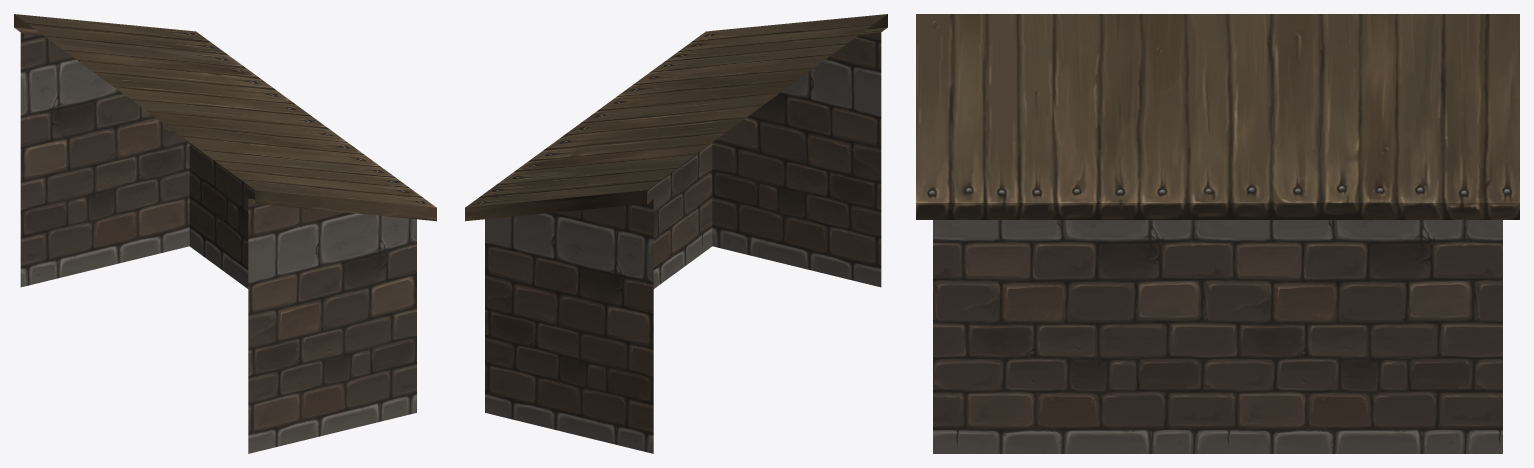
Rendered from M_ExtensionBrick.fbx.
The picture shows the model from 3 angles, left to right: view 1: azimuth 30°, elevation 25°; view 2: azimuth 150°, elevation 25°; view 3: azimuth 270°, elevation 25°; orthographic projection. The views are drawn at different scales.
Visible parts, largest first — view 1: M_ExtensionBrick; view 2: M_ExtensionBrick; view 3: M_ExtensionBrick.
Boxes of the visible parts, left/top/right/bottom form: M_ExtensionBrick: left=14, top=14, right=436, bottom=453; M_ExtensionBrick: left=465, top=14, right=887, bottom=453; M_ExtensionBrick: left=916, top=14, right=1519, bottom=453.
Bounding box in the file's own units: 3.24 × 4.56 × 7.41.
